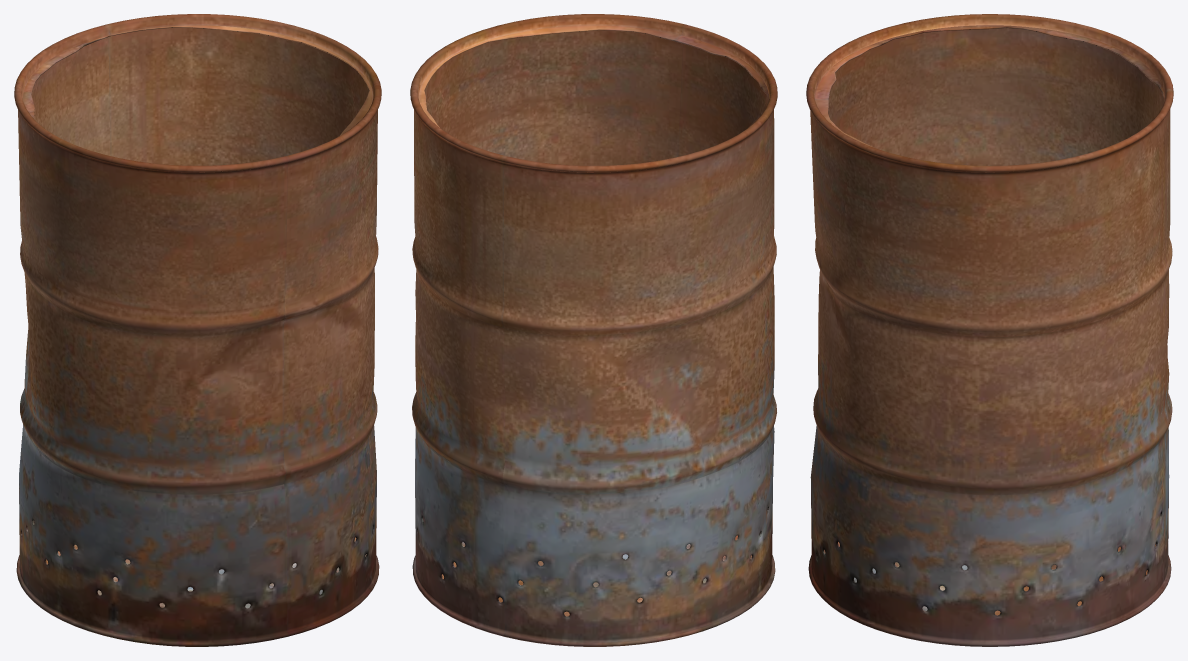
File: barrel_stove.glb
The picture shows the model from 3 angles, left to right: view 1: azimuth 30°, elevation 25°; view 2: azimuth 150°, elevation 25°; view 3: azimuth 270°, elevation 25°; orthographic projection.
Visible parts, largest first — view 1: barrel_stove; view 2: barrel_stove; view 3: barrel_stove.
Boxes of the visible parts, box(x1,y1,x2,y2) form: barrel_stove: box(14, 14, 381, 646); barrel_stove: box(410, 14, 777, 646); barrel_stove: box(806, 14, 1173, 646).
Bounding box in the file's own units: 0.5925 × 0.8556 × 0.5925.
Materials: 1 (1 with a texture image).
